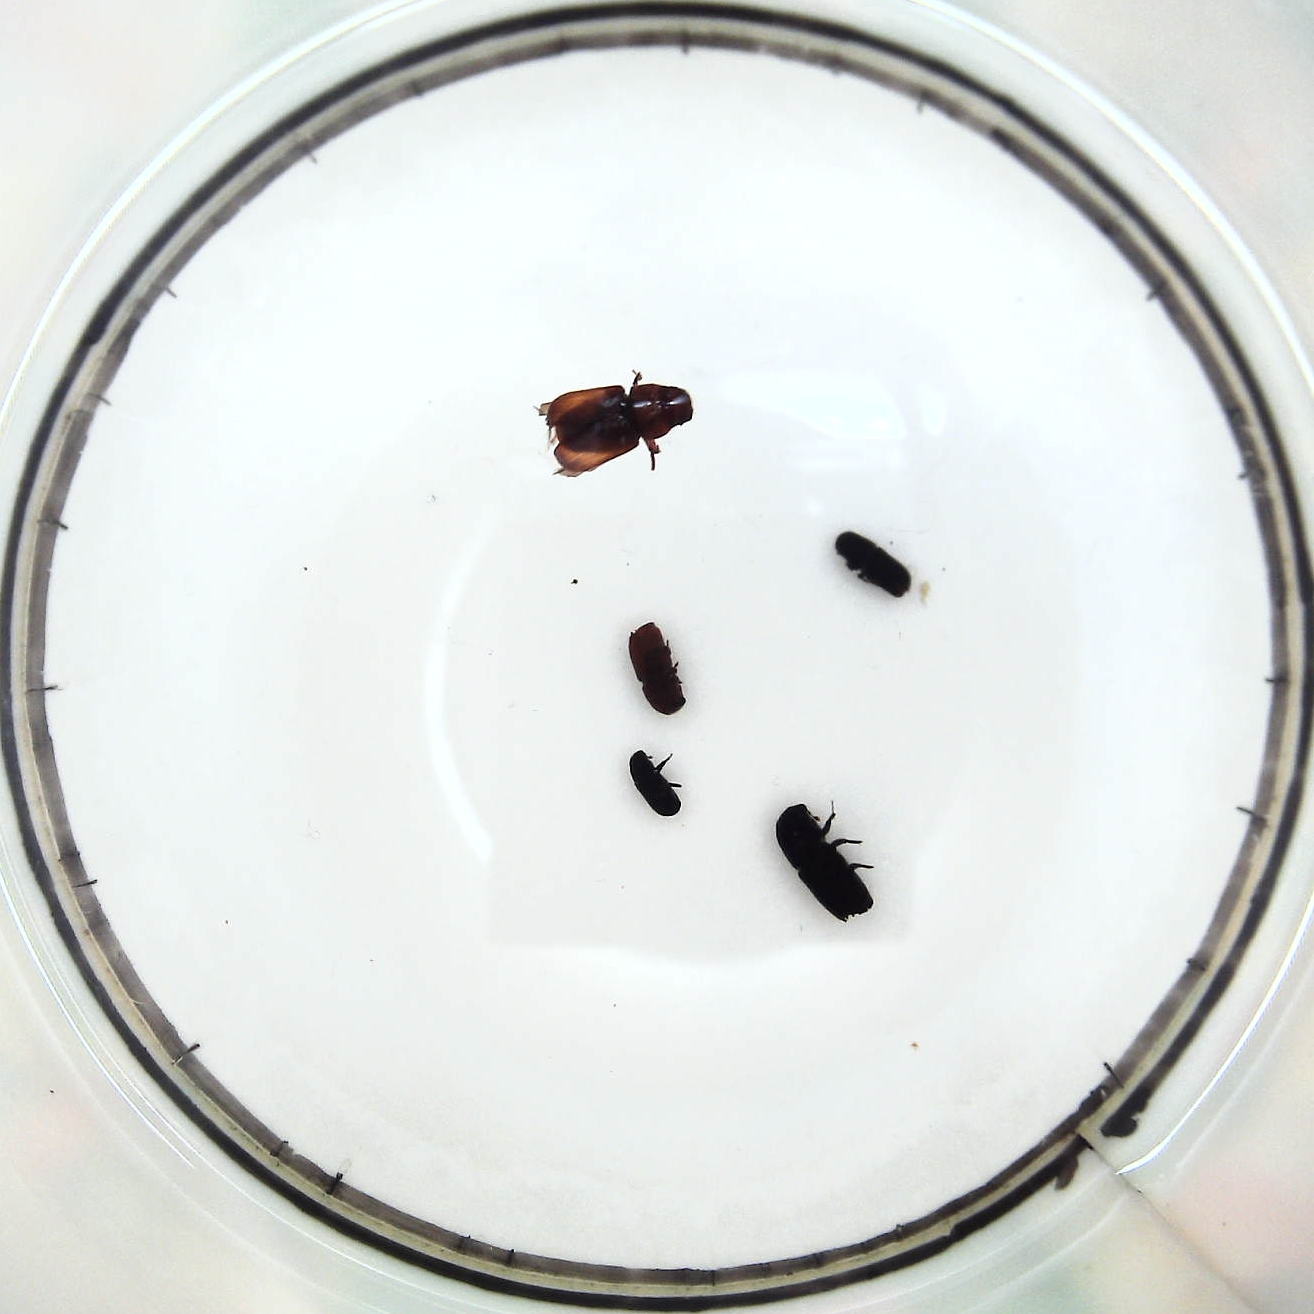Boerner: (776, 803, 875, 924)
Leconte: (541, 378, 696, 478)
Linnaeus: (627, 620, 689, 714)
armandi: (829, 529, 911, 603)
coleoptera: (627, 746, 681, 821)
